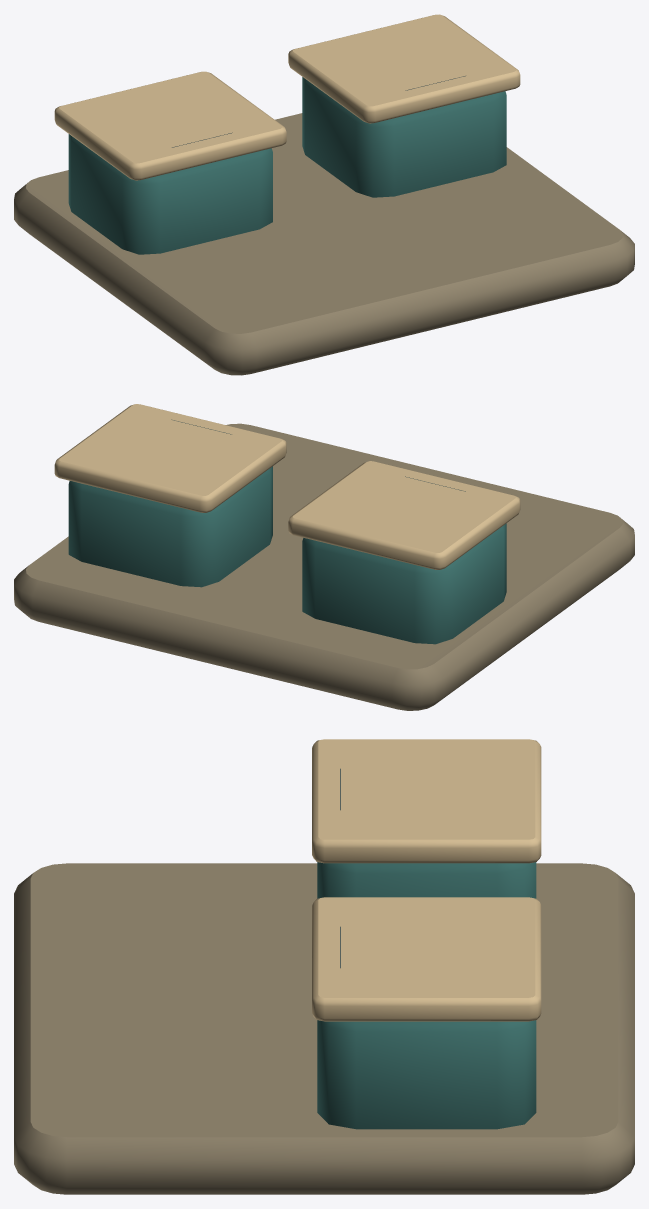
The model's file is annex_wash_2.glb.
3 renders of one model, top to bottom at view 1: azimuth 30°, elevation 25°; view 2: azimuth 150°, elevation 25°; view 3: azimuth 270°, elevation 25°, orthographic. The views are drawn at different scales.
Parts seen in each view (by area): view 1: Annex_wash_2; view 2: Annex_wash_2; view 3: Annex_wash_2.
Part boxes in pixels (x1=…): Annex_wash_2: x1=14, y1=14, x2=634, y2=375; Annex_wash_2: x1=14, y1=404, x2=634, y2=710; Annex_wash_2: x1=14, y1=739, x2=634, y2=1194.
Size of the model in its own units: 1.93 by 0.5924 by 1.76.
